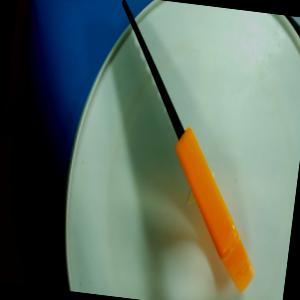serrote: (88, 0, 286, 295)
